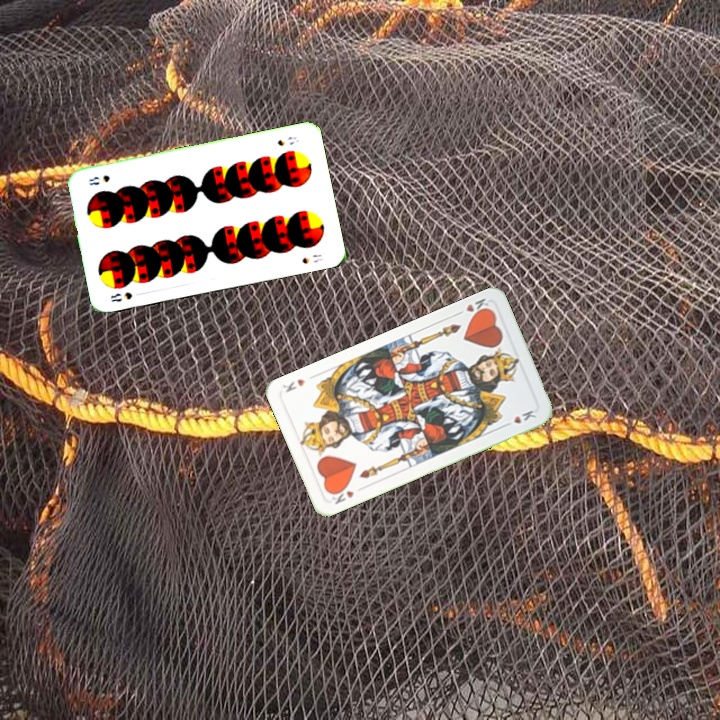HK: (452, 294, 492, 320), (327, 483, 357, 507)
S8: (106, 288, 135, 305), (273, 132, 301, 149)
